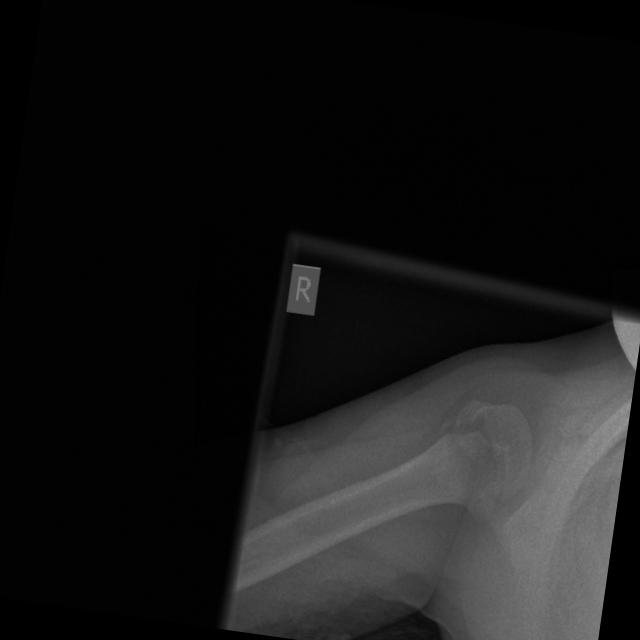shoulder fracture: (412, 379, 510, 467)
